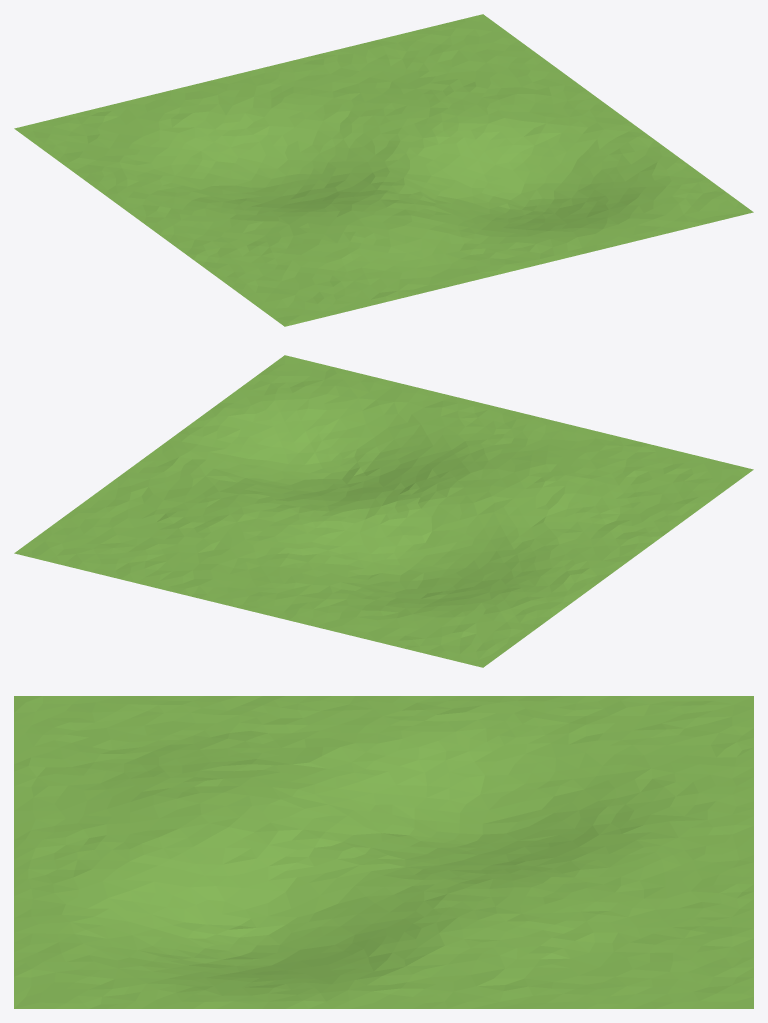
File: MT_Terrain_L_b_02.fbx
3 views of the same model, one above another, from view 1: azimuth 30°, elevation 25°; view 2: azimuth 150°, elevation 25°; view 3: azimuth 270°, elevation 25° (orthographic). The views are drawn at different scales.
Parts seen in each view (by area): view 1: MT_Terrain_L_b_02; view 2: MT_Terrain_L_b_02; view 3: MT_Terrain_L_b_02.
Boxes of the visible parts, bbox=[...] form: MT_Terrain_L_b_02: bbox=[14, 14, 753, 326]; MT_Terrain_L_b_02: bbox=[14, 355, 753, 667]; MT_Terrain_L_b_02: bbox=[14, 696, 753, 1008].
Size of the model in its own units: 10000 by 522 by 10000.
